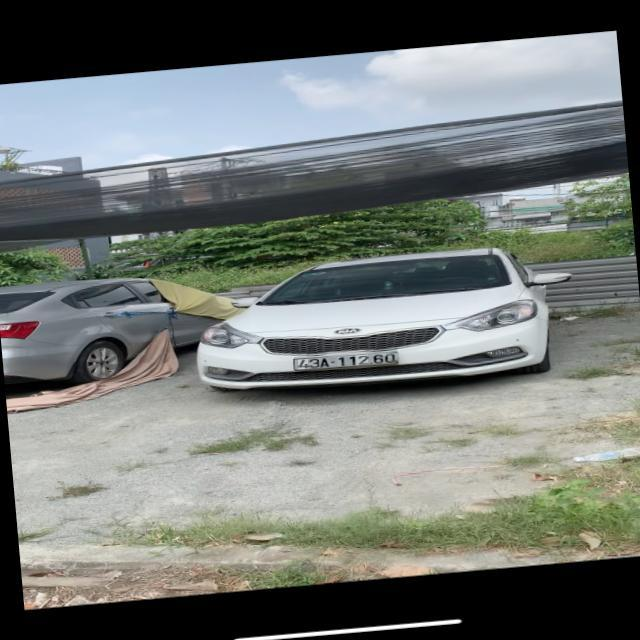car: (205, 244, 553, 401), (0, 274, 179, 411)
plate: (281, 343, 403, 381)
